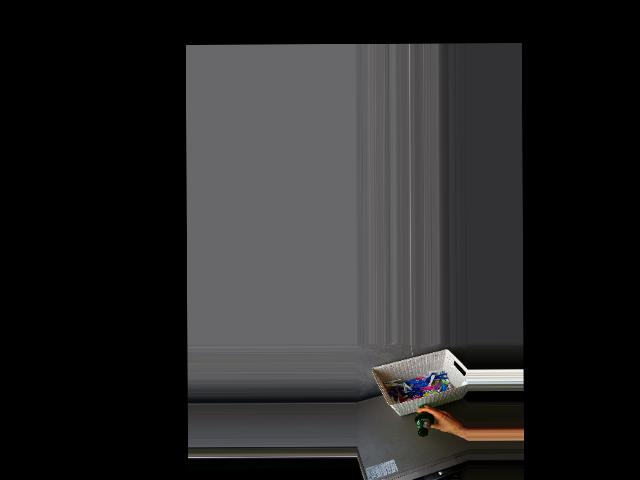beer: (414, 404, 434, 437)
